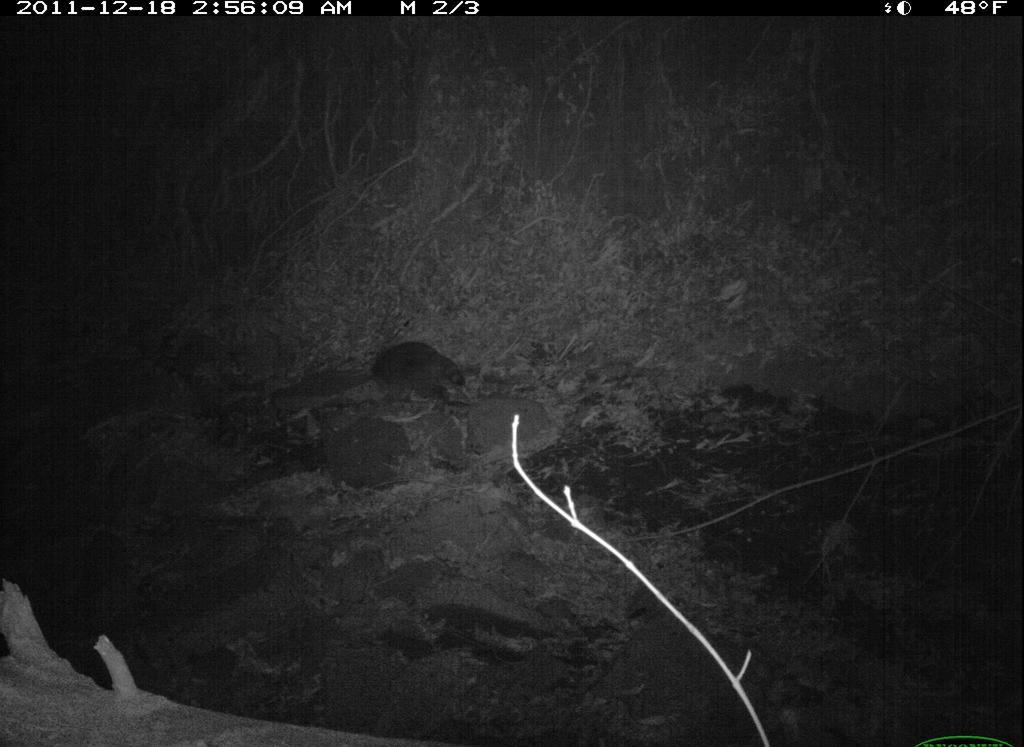raccoon: (358, 335, 479, 420)
